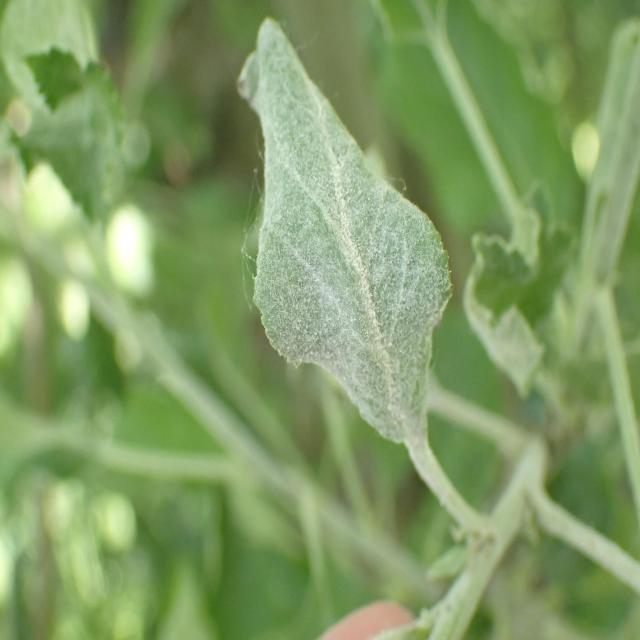Powdery_mildew: (231, 7, 454, 471), (455, 182, 597, 446)
